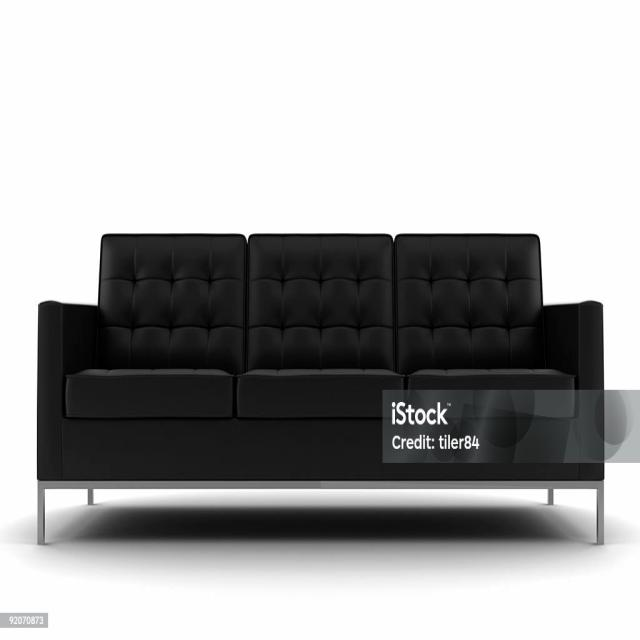back_cushion: (94, 234, 568, 375)
left_arm: (544, 301, 604, 479)
legs: (37, 482, 62, 544), (585, 481, 604, 512), (596, 520, 604, 543), (547, 487, 554, 505), (87, 487, 94, 504)
right_arm: (37, 301, 96, 480)
seat_cushion: (38, 350, 603, 480)
stallion-sofa1: (0, 0, 639, 639)
